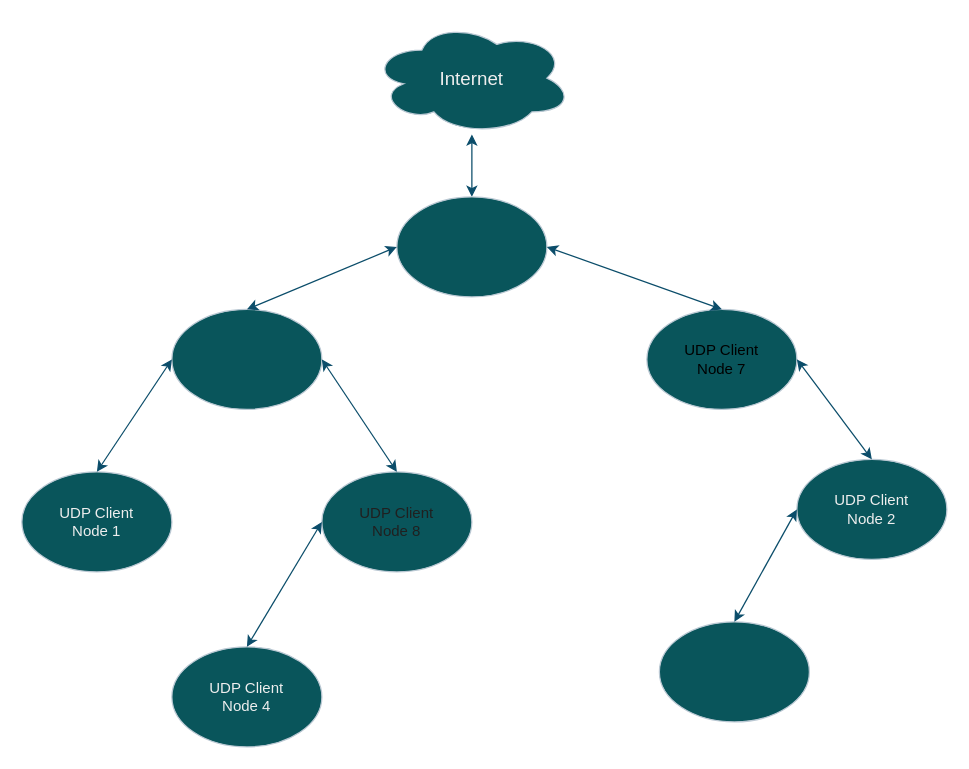
Some shapes in this 969 by 769 pixel diagram are drawn without their labels. The shapes that lost their labels are listed below. From the top down, each one's centre as x and y in pixels, then its label:
[471,246]: UDP Server Node 6
[246,358]: UDP Client Node 3
[733,671]: UDP Client Node 5
